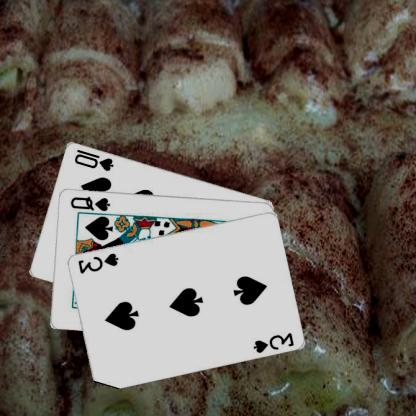10S: (73, 146, 117, 172)
3S: (76, 250, 121, 274), (252, 330, 297, 354)
QS: (70, 193, 113, 212)
